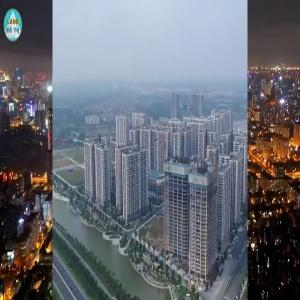drone: (38, 118, 87, 167)
